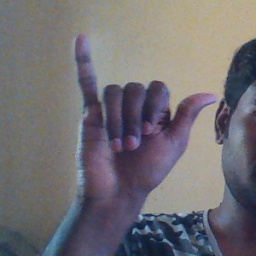J: (67, 33, 218, 198)
